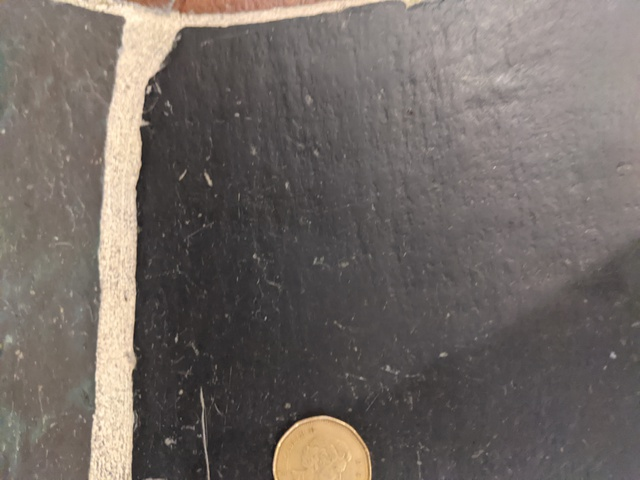loonie: (262, 408, 389, 478)
